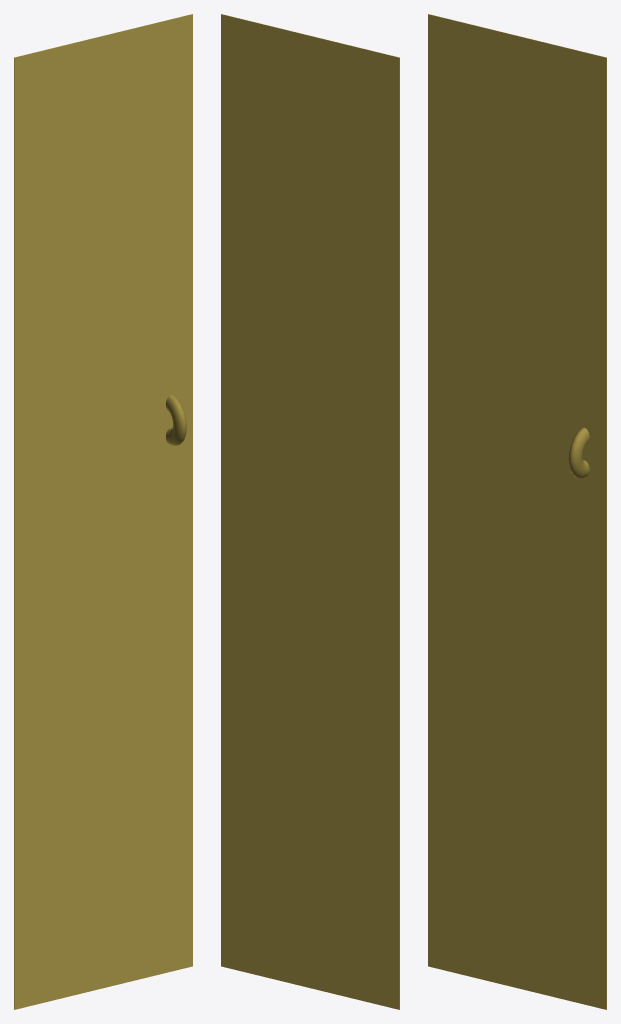
File: puertaIzq.obj
3 renders of one model, left to right at view 1: azimuth 30°, elevation 25°; view 2: azimuth 150°, elevation 25°; view 3: azimuth 330°, elevation 25°, orthographic.
Parts seen in each view (by area): view 1: polySurface128, initialShadingGroup polySurface128; view 2: polySurface128; view 3: polySurface128, initialShadingGroup polySurface128.
Boxes of the visible parts, x1=… form: polySurface128: x1=14, y1=14, x2=192, y2=1009; initialShadingGroup polySurface128: x1=165, y1=395, x2=186, y2=445; polySurface128: x1=221, y1=14, x2=399, y2=1009; polySurface128: x1=428, y1=14, x2=606, y2=1009; initialShadingGroup polySurface128: x1=568, y1=427, x2=589, y2=478.
Bounding box in the file's own units: 0.31 × 1.58 × 0.0419.
2 materials, 2 textured.
